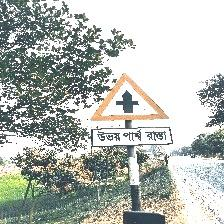Crossroad: (89, 74, 172, 149)
